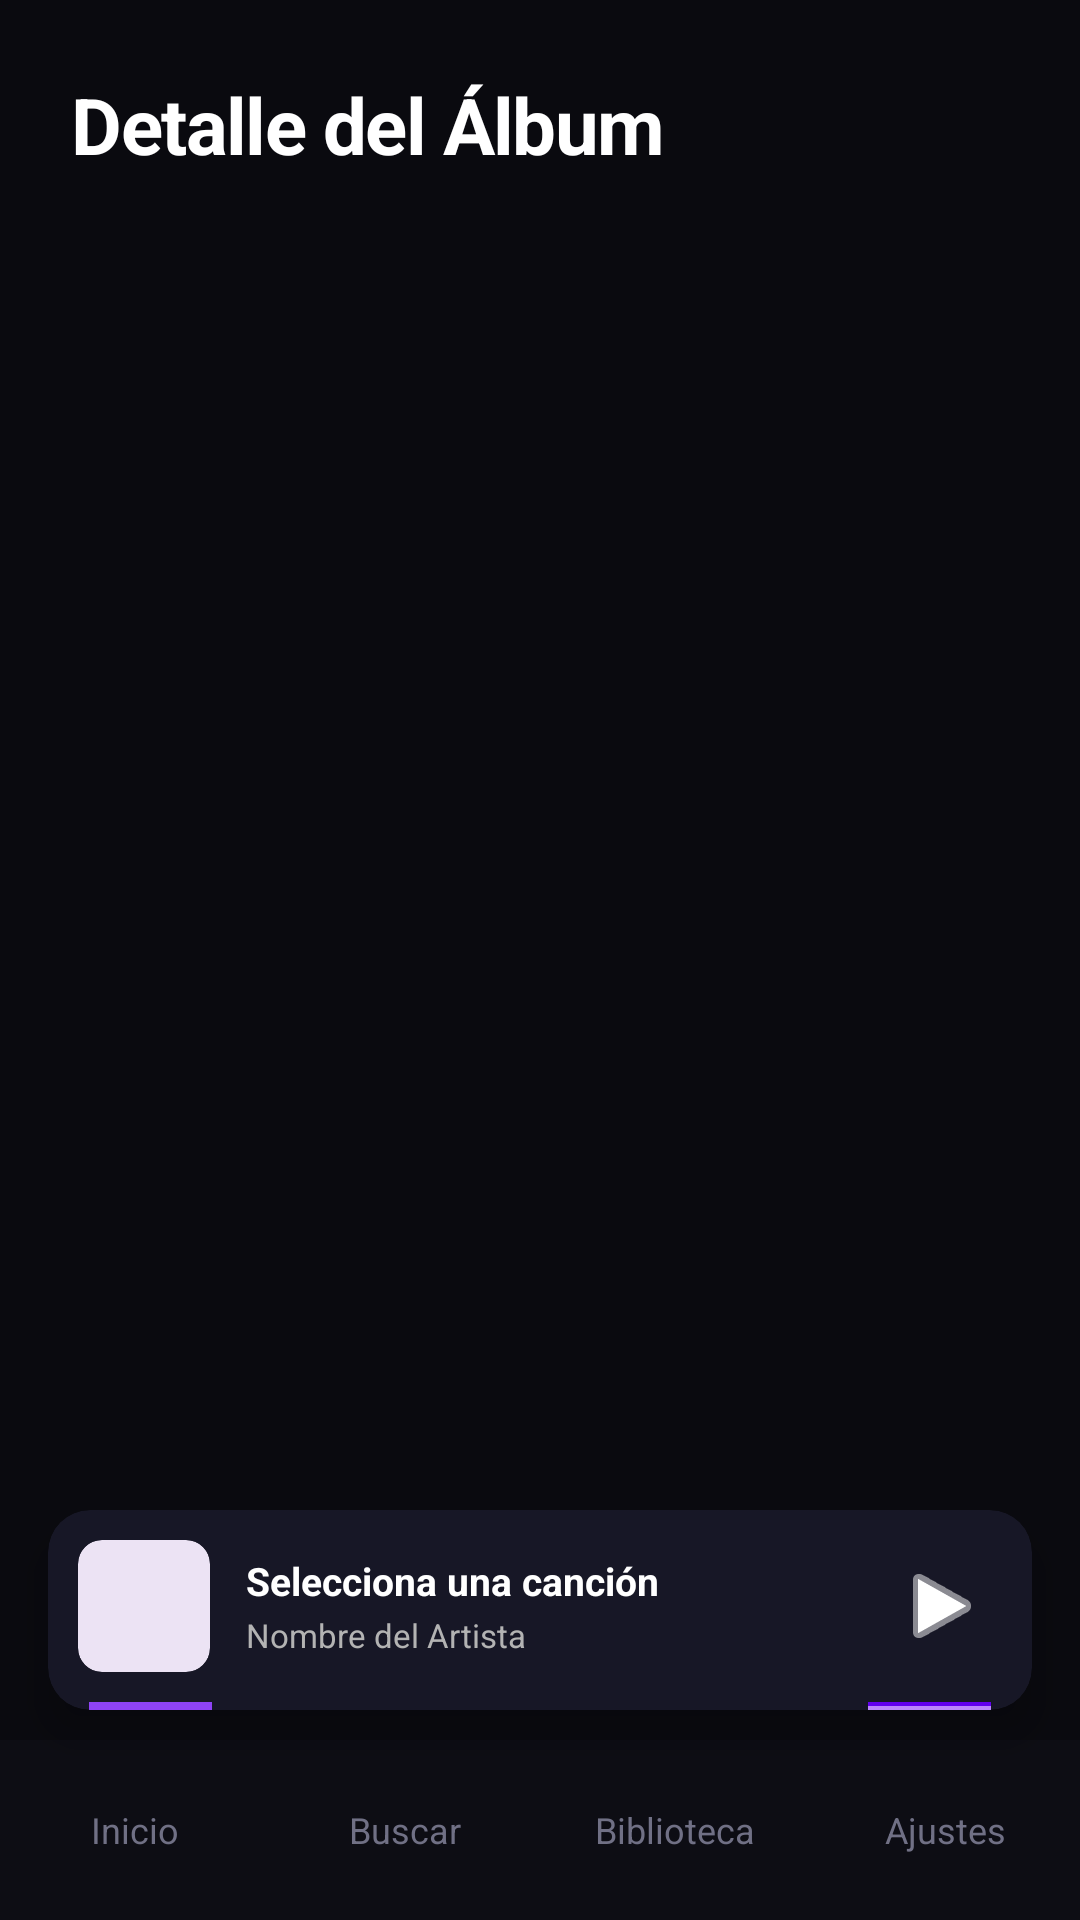

Where to tap for icons on this 1080w x 1920h app screen, as [x,y]:
Reproducir o pausar: [942,1606]
